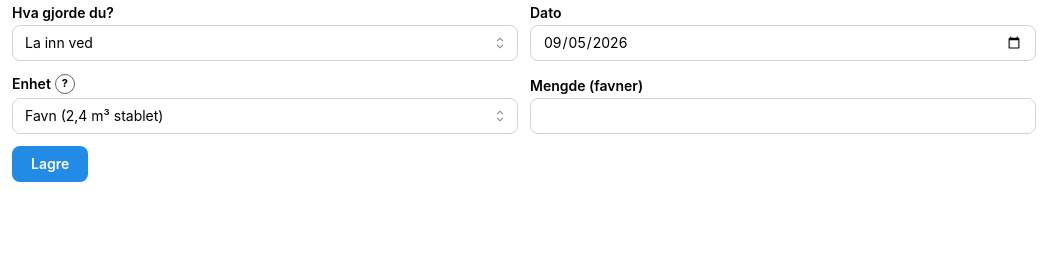
Test: VolumeEntryForm › refuses an amount far beyond any real woodpile
This screenshot has width=1048, height=267.
Type "1e15" into the number field labelled "Mengde (favner)" at point(783, 116), box [530, 98, 1036, 134]
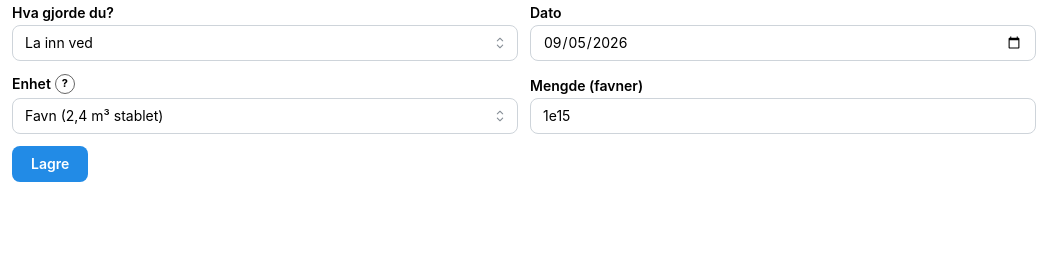
Click the button "Lagre" at point(50, 164), box [12, 146, 88, 182]
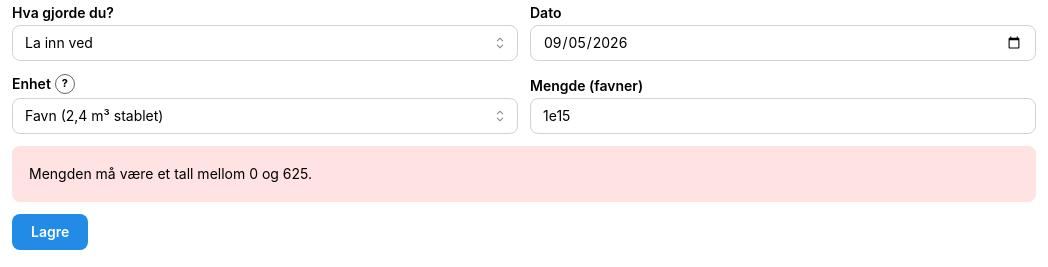
Expected: the text "Mengden må være et tall mellom 0 og 625." is shown, [29, 166, 312, 182]
